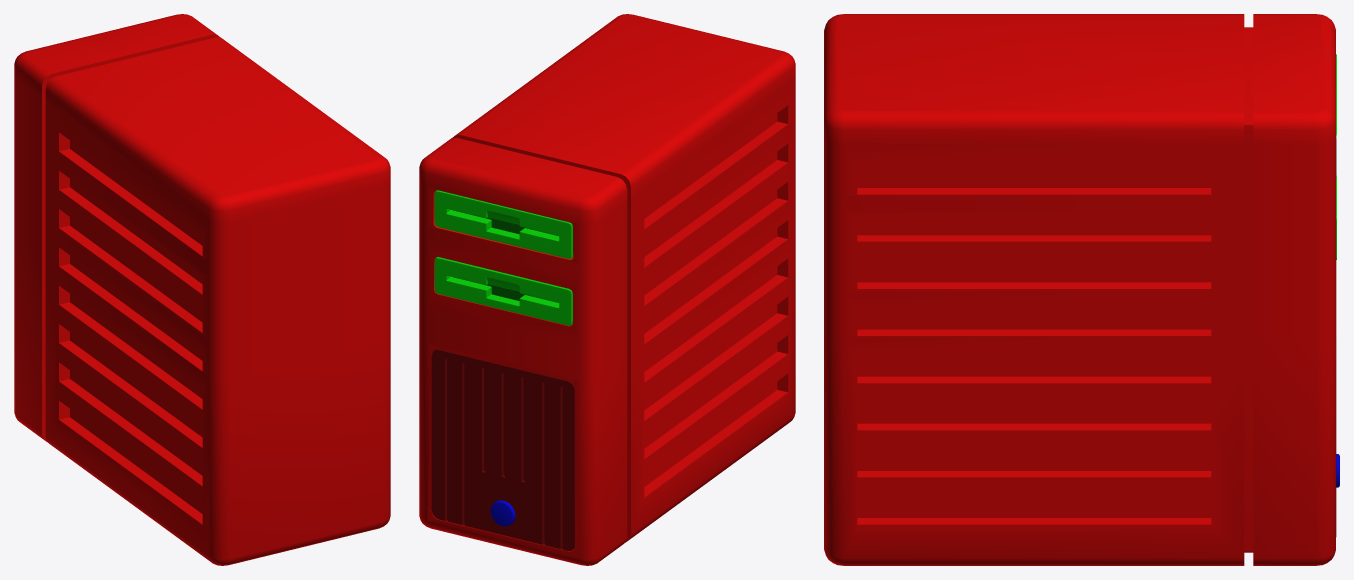
Rendered from Computer Tower.fbx.
The picture shows the model from 3 angles, left to right: view 1: azimuth 30°, elevation 25°; view 2: azimuth 150°, elevation 25°; view 3: azimuth 270°, elevation 25°; orthographic projection. The views are drawn at different scales.
Visible parts, largest first — view 1: Computer Tower; view 2: Computer Tower; view 3: Computer Tower.
Part boxes in pixels (x1,y1,x2,y2): Computer Tower: (14,14,390,565); Computer Tower: (419,14,795,565); Computer Tower: (824,14,1339,565).
Size of the model in its own units: 50.38 by 101 by 98.33.
